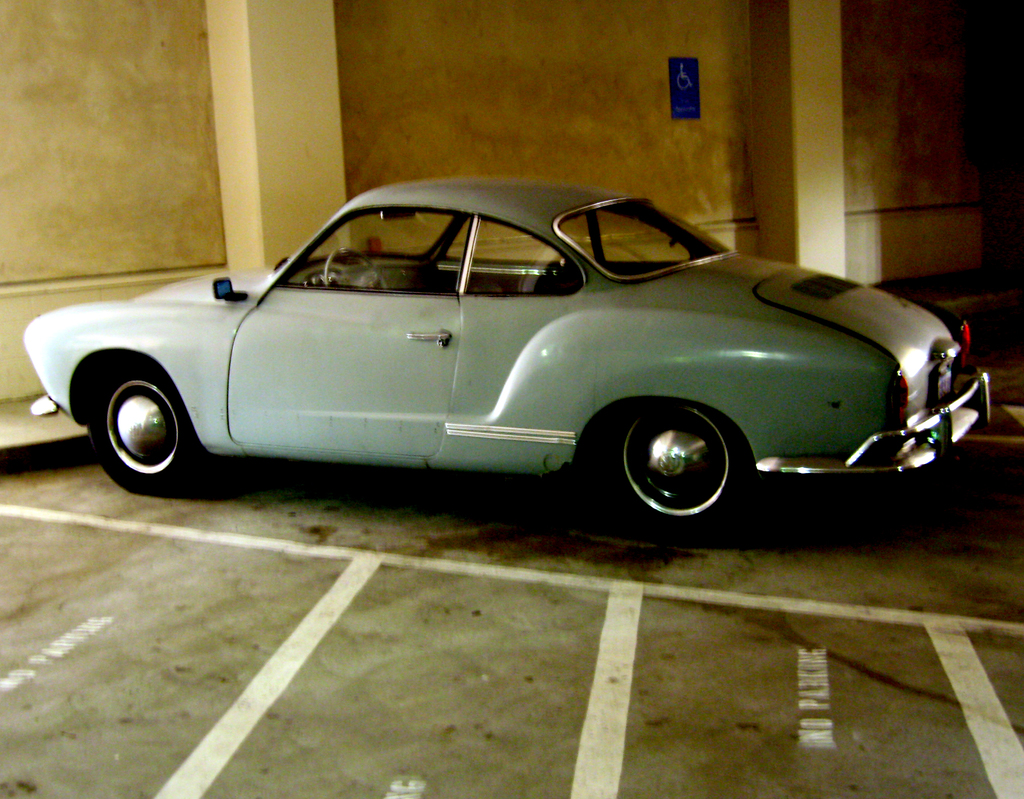car: (25, 165, 993, 521)
